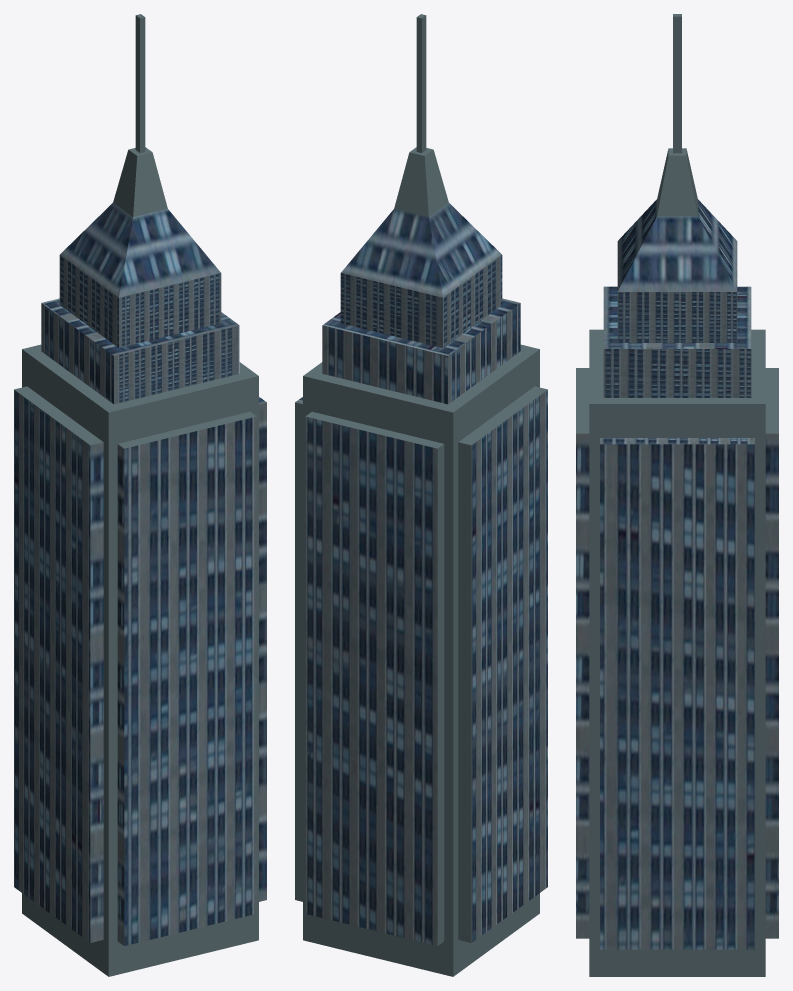
Rendered from building2.obj.
The picture shows the model from 3 angles, left to right: view 1: azimuth 30°, elevation 25°; view 2: azimuth 150°, elevation 25°; view 3: azimuth 270°, elevation 25°; orthographic projection.
Parts seen in each view (by area): view 1: Cube; view 2: Cube; view 3: Cube.
Part boxes in pixels (bbox=[...]): Cube: bbox=[14, 14, 266, 976]; Cube: bbox=[295, 14, 547, 976]; Cube: bbox=[576, 14, 778, 976].
Bounding box in the file's own units: 1.27 × 6.26 × 1.24.
Materials: 1 (1 with a texture image).
